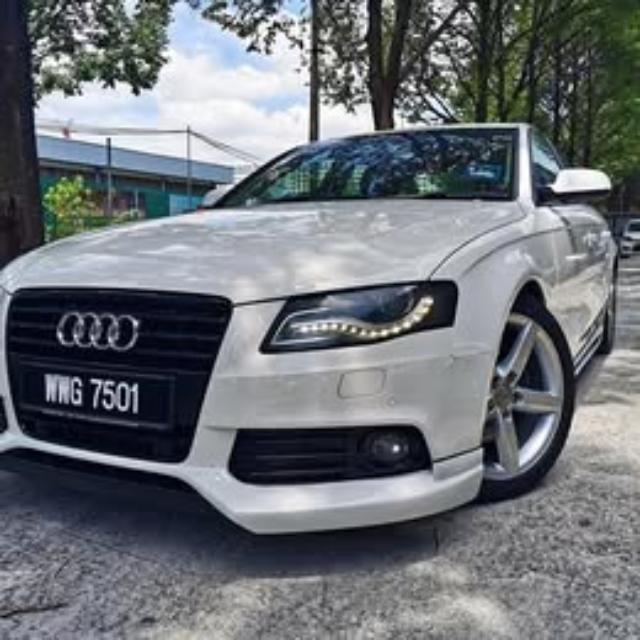License_Plate: (14, 359, 178, 432)
car: (2, 122, 619, 538)
